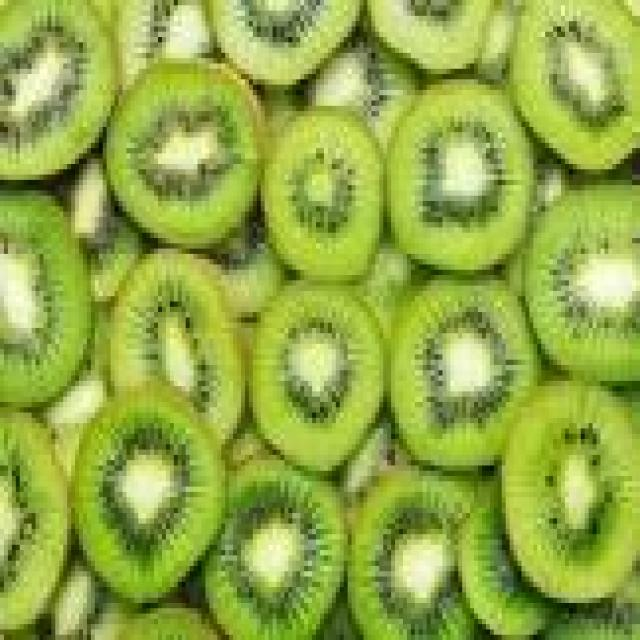kivi: (75, 385, 225, 602), (106, 64, 261, 248), (390, 279, 539, 469), (386, 80, 532, 271), (504, 385, 632, 602), (110, 251, 245, 442), (205, 459, 346, 638), (250, 285, 384, 472), (525, 182, 640, 381), (510, 0, 640, 171), (348, 472, 475, 639), (261, 109, 384, 281), (0, 0, 115, 181), (0, 191, 91, 407), (0, 410, 69, 631), (211, 0, 360, 87), (369, 0, 491, 74)
